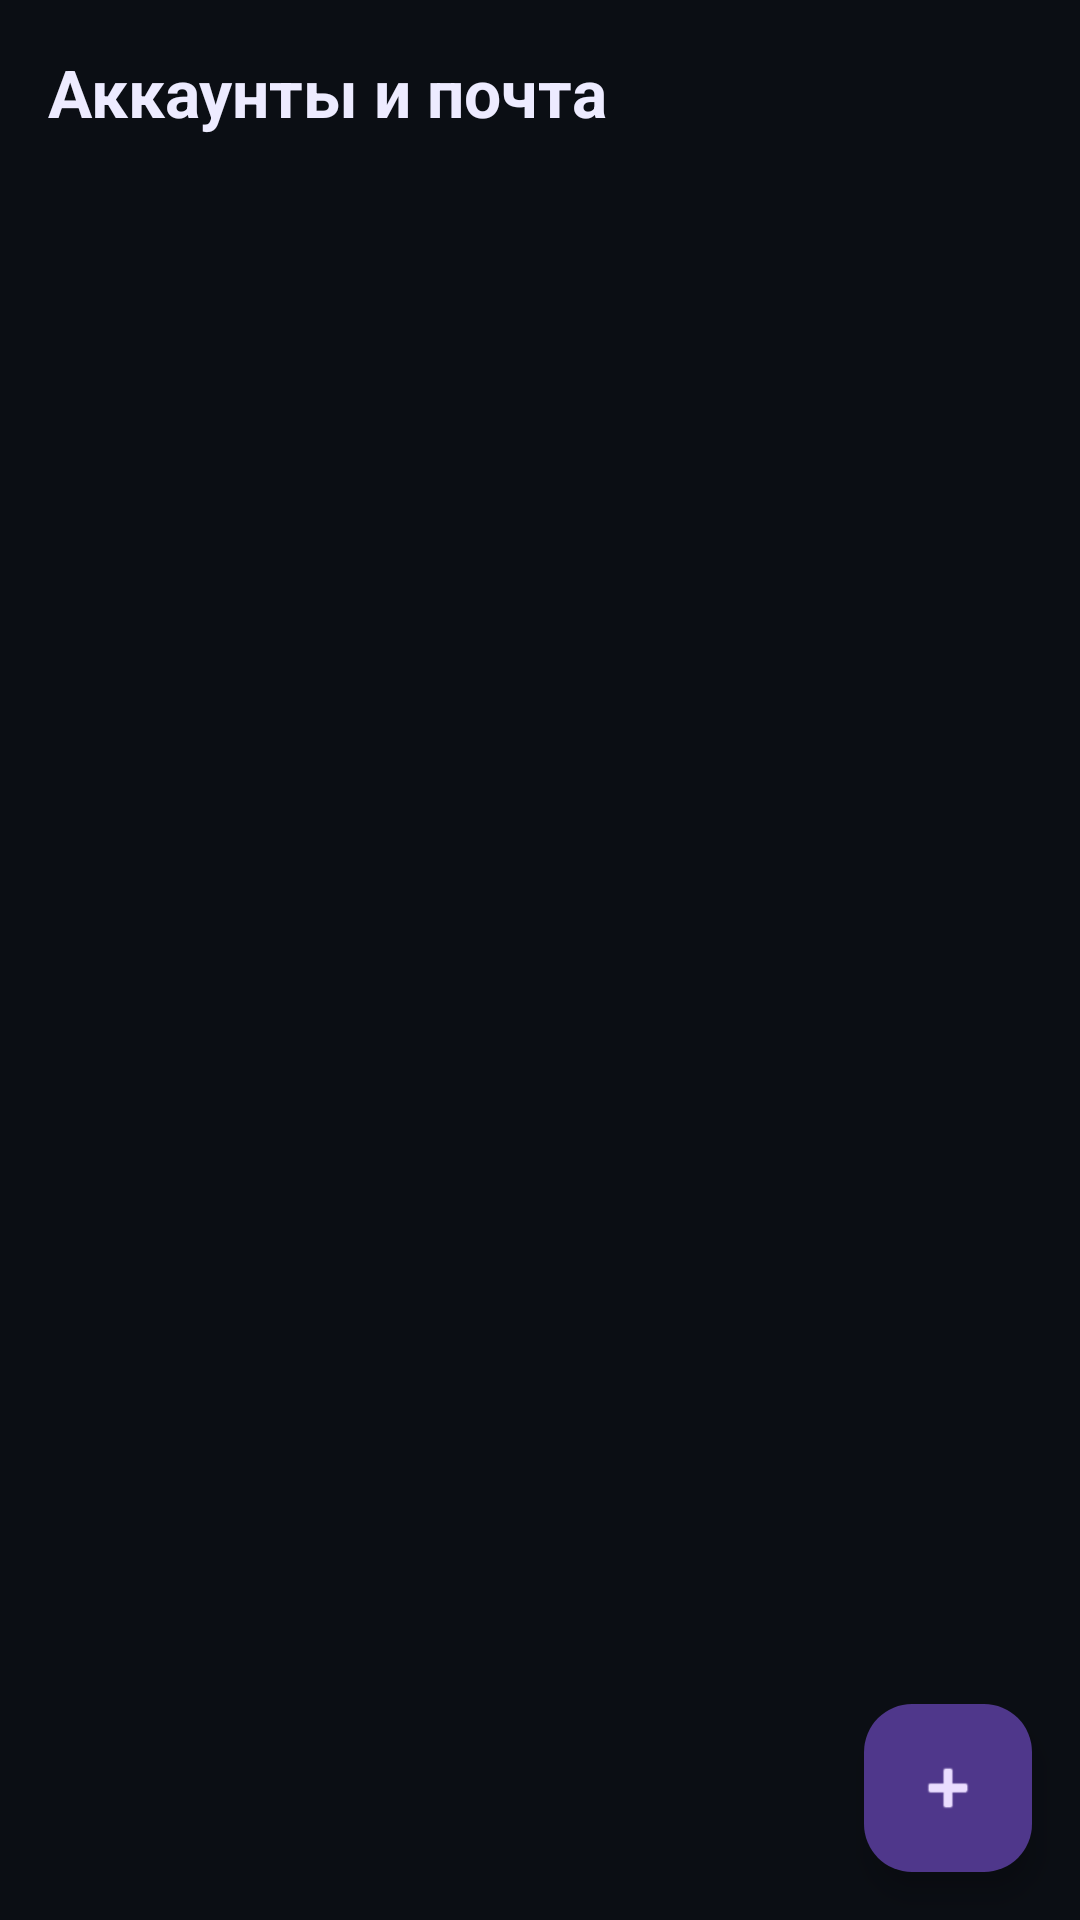

Where to tap for icons on this 1080px×1920px app screen, as (x=x, y=y):
Добавить аккаунт: (x=948, y=1788)
